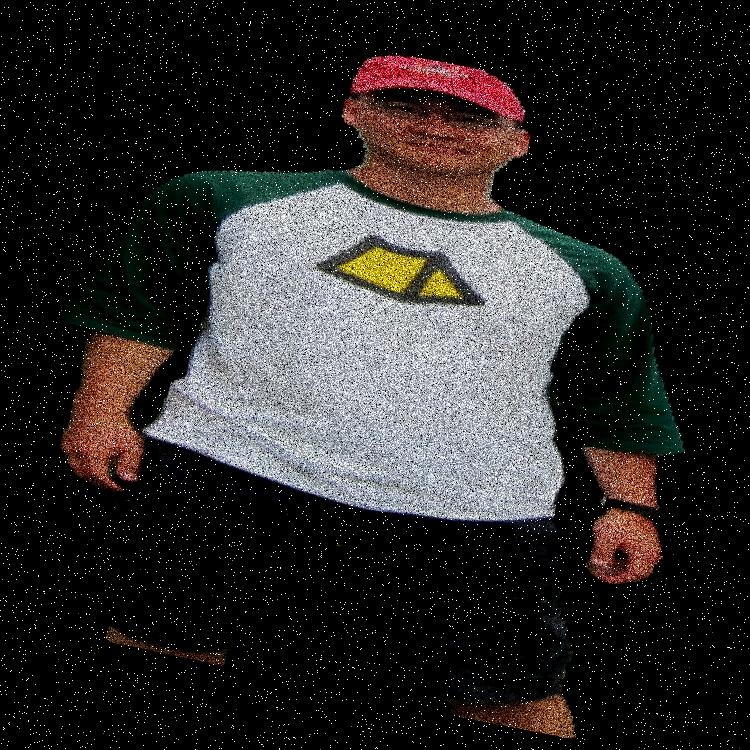Pessoa: (186, 0, 611, 749)
